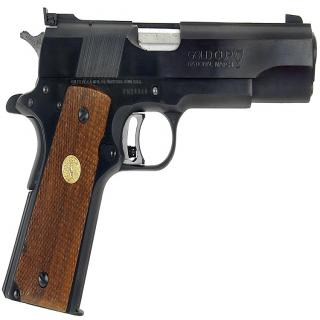gun: (14, 15, 311, 312)
